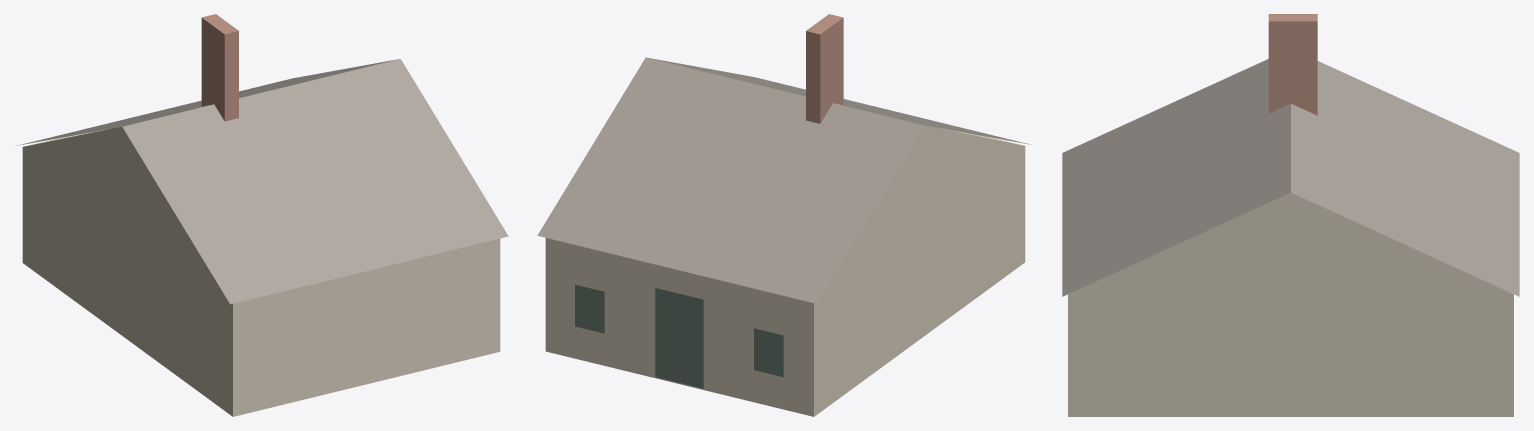
File: recon_1835_north_d5_019__recommended_1835.glb
3 views of the same model, side by side, from view 1: azimuth 30°, elevation 25°; view 2: azimuth 150°, elevation 25°; view 3: azimuth 270°, elevation 25° (orthographic). The views are drawn at different scales.
Parts seen in each view (by area): view 1: recon_1835_north_d5_019__recommended_1835; view 2: recon_1835_north_d5_019__recommended_1835; view 3: recon_1835_north_d5_019__recommended_1835.
Part boxes in pixels (box(x1,y1,x2,y2)): recon_1835_north_d5_019__recommended_1835: box(16, 14, 508, 416); recon_1835_north_d5_019__recommended_1835: box(537, 14, 1031, 416); recon_1835_north_d5_019__recommended_1835: box(1062, 14, 1519, 416).
Size of the model in its own units: 6.99 by 7 by 9.38.
